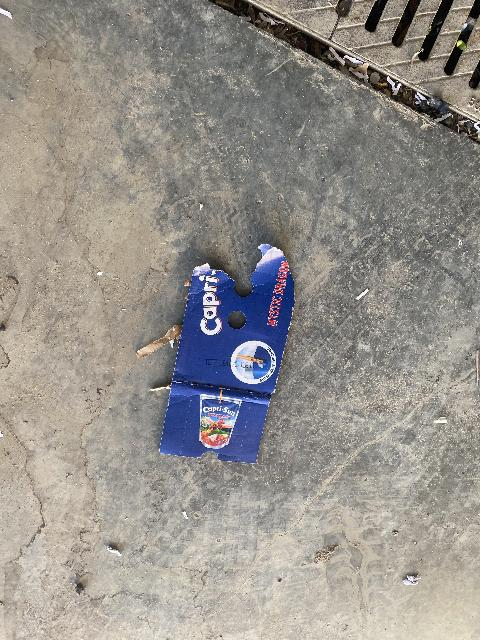Kagit: (158, 241, 298, 464), (136, 321, 182, 360)
